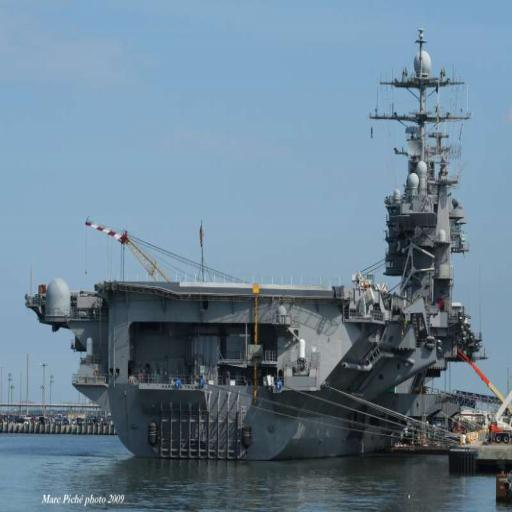Portanaves: (31, 20, 488, 465)
